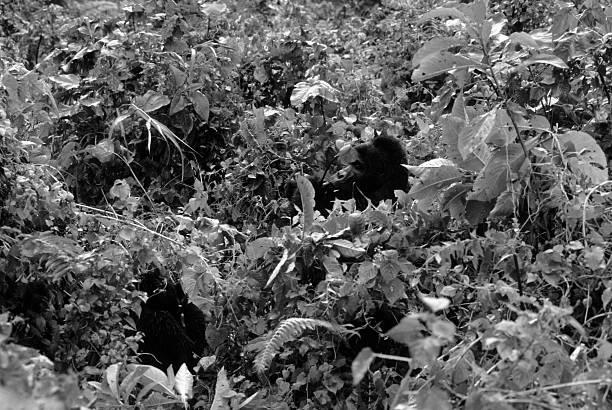goriile_montagne: (283, 123, 426, 239)
